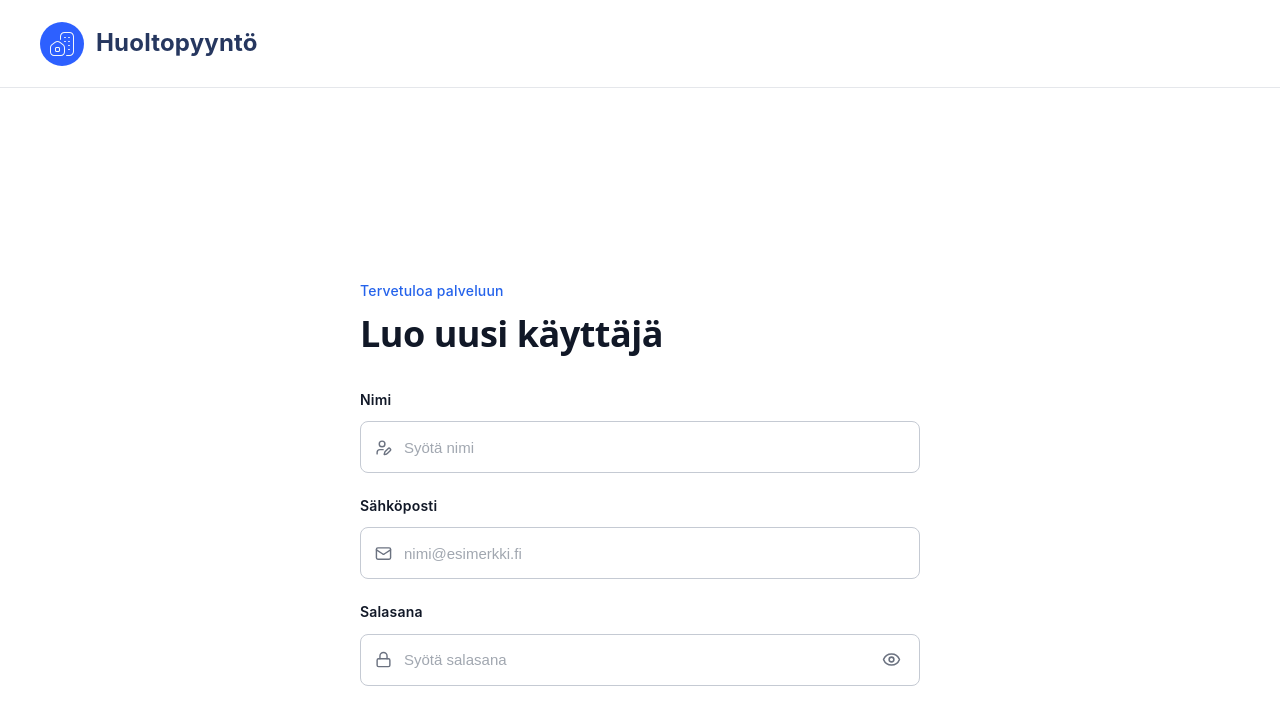
Test case: RegisterPage › shows an error when the password confirmation does not match
Type "Test User" into the field labelled "Nimi" at (654, 447), box [404, 422, 905, 472]
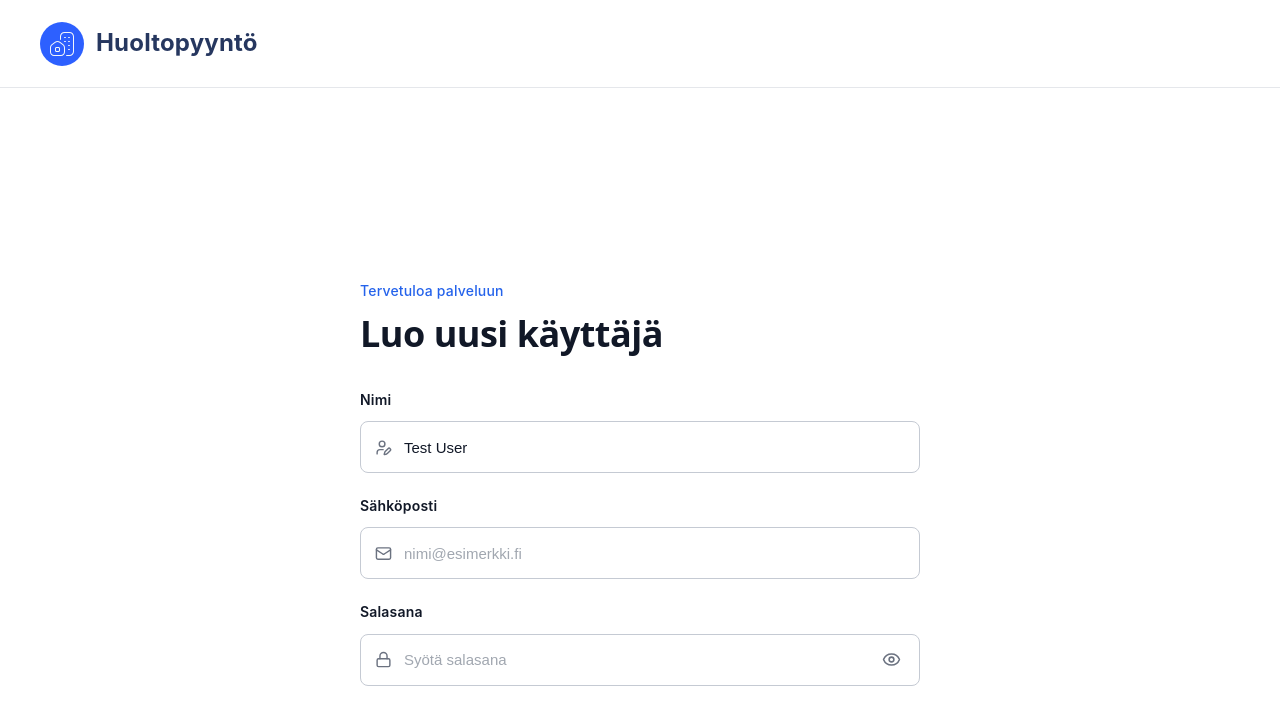
Type "test@example.com" into the field labelled "Sähköposti" at (654, 554), box [404, 528, 905, 578]
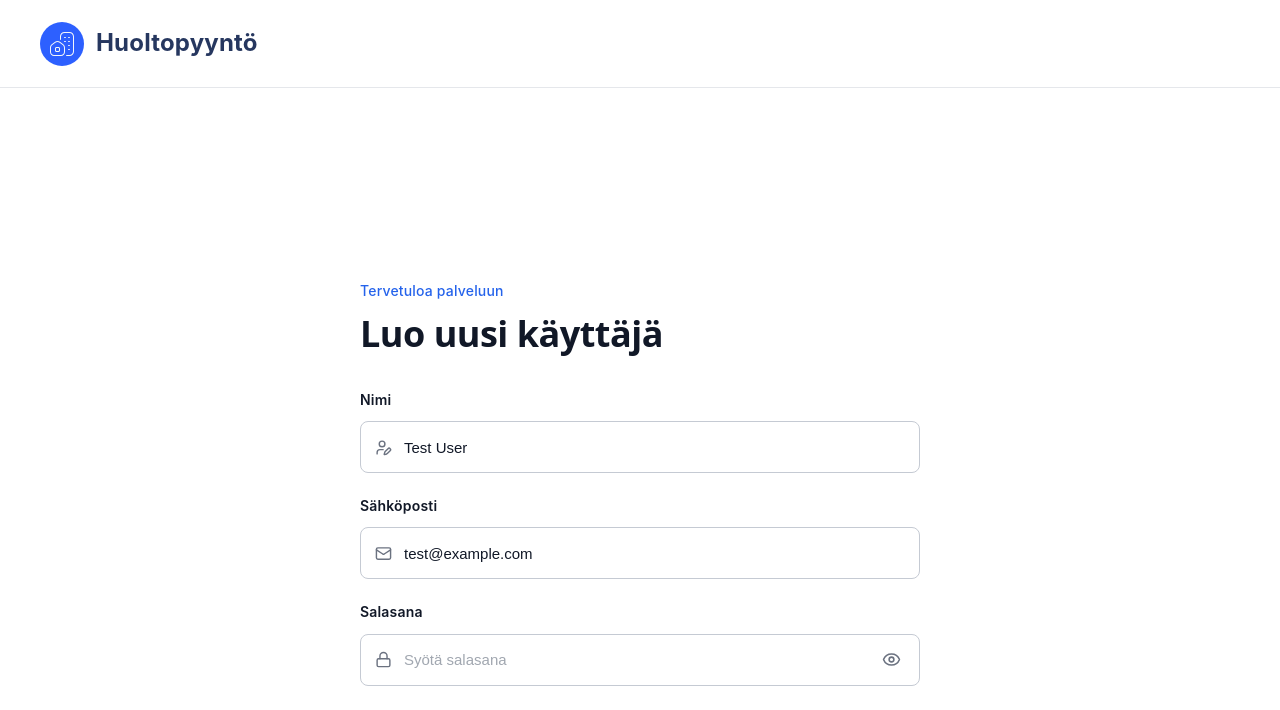
Type "password123" into the password field labelled "Salasana" at (635, 660), box [404, 635, 866, 685]
(page scrolled)
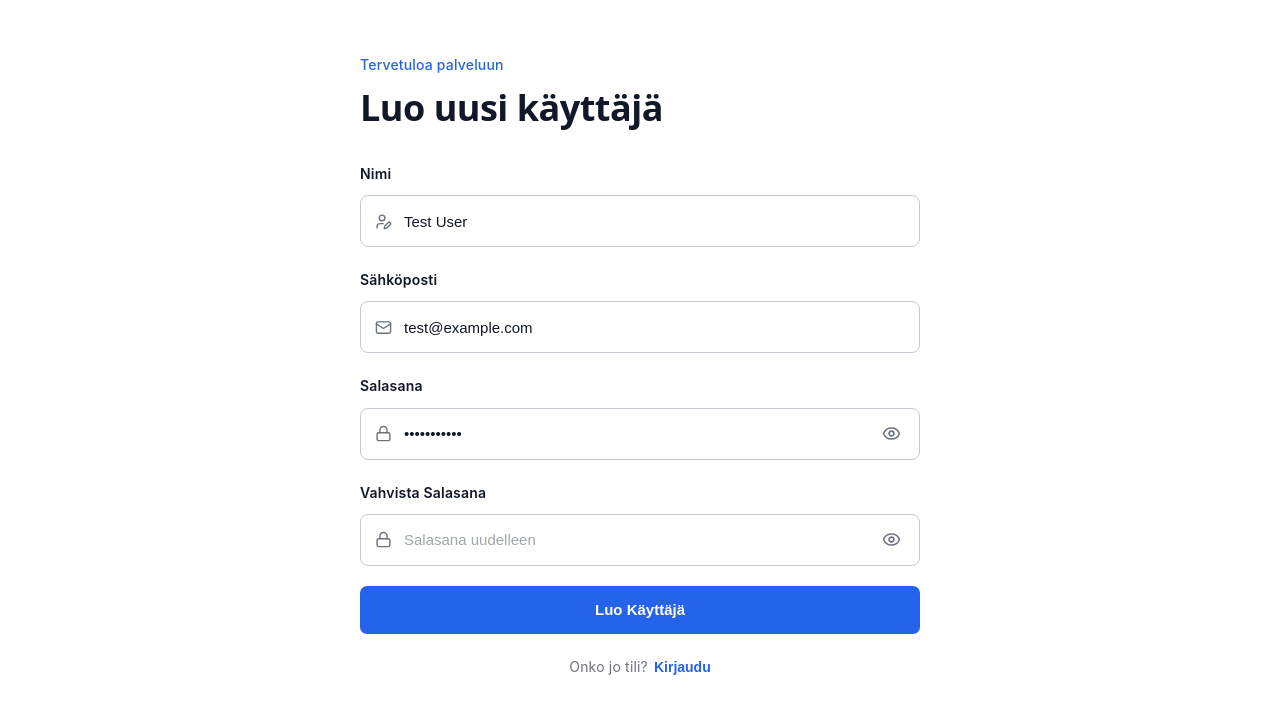
Type "different123" into the password field labelled "Vahvista Salasana" at (635, 540), box [404, 515, 866, 565]
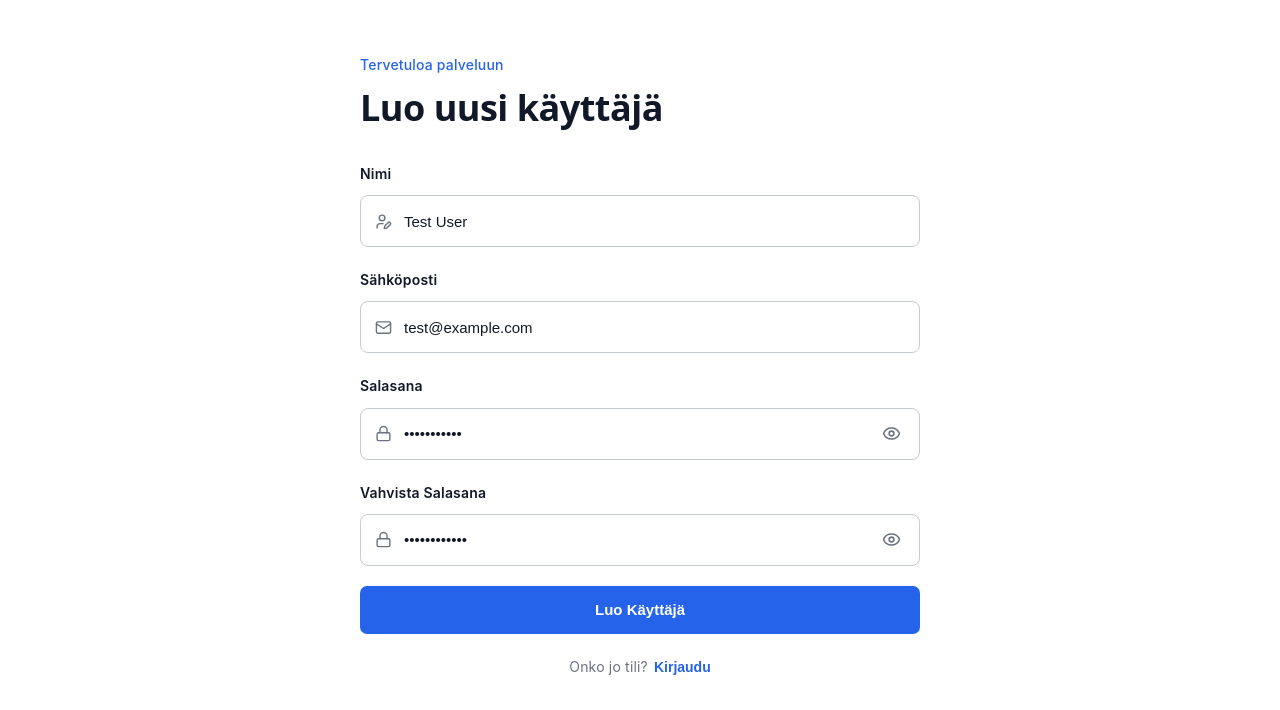
Click the button "Luo Käyttäjä" at (640, 610), box [360, 586, 920, 634]
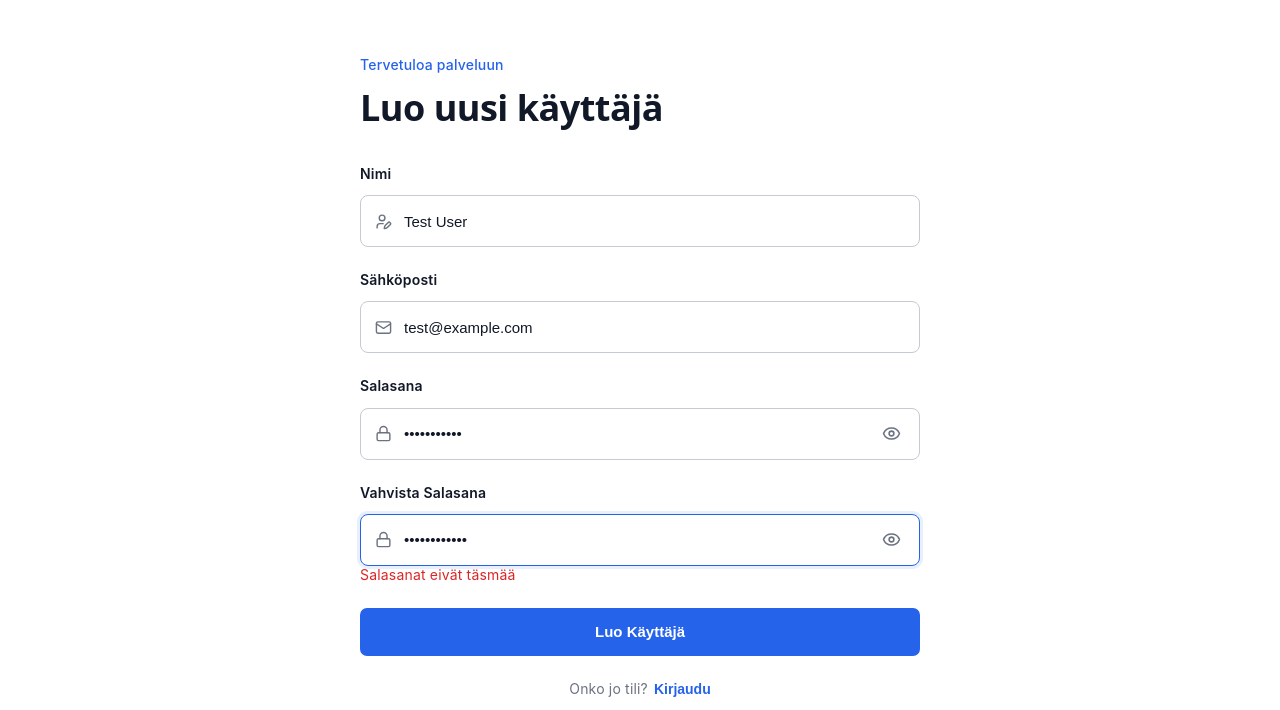
Expected: the text "Salasanat eivät täsmää" is shown, [360, 566, 516, 583]
